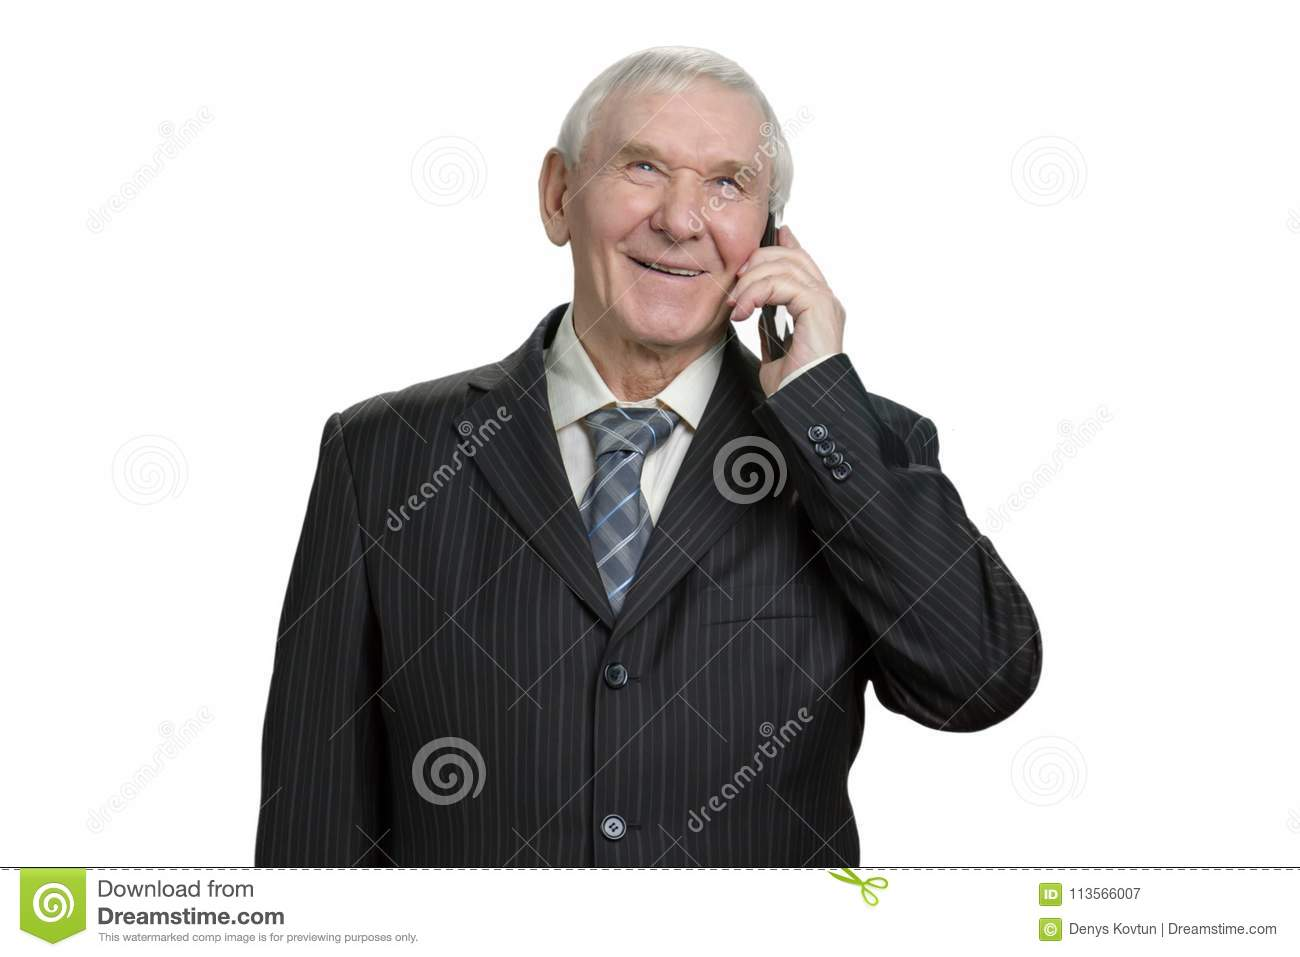phone: (753, 205, 792, 366)
talk: (592, 129, 845, 390)
